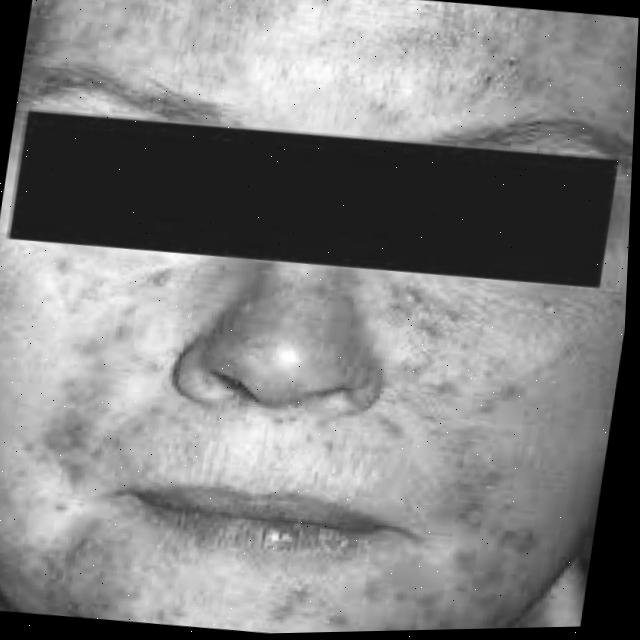Rosacea: (342, 277, 565, 625), (55, 0, 625, 122), (8, 511, 462, 639), (20, 250, 186, 482)
